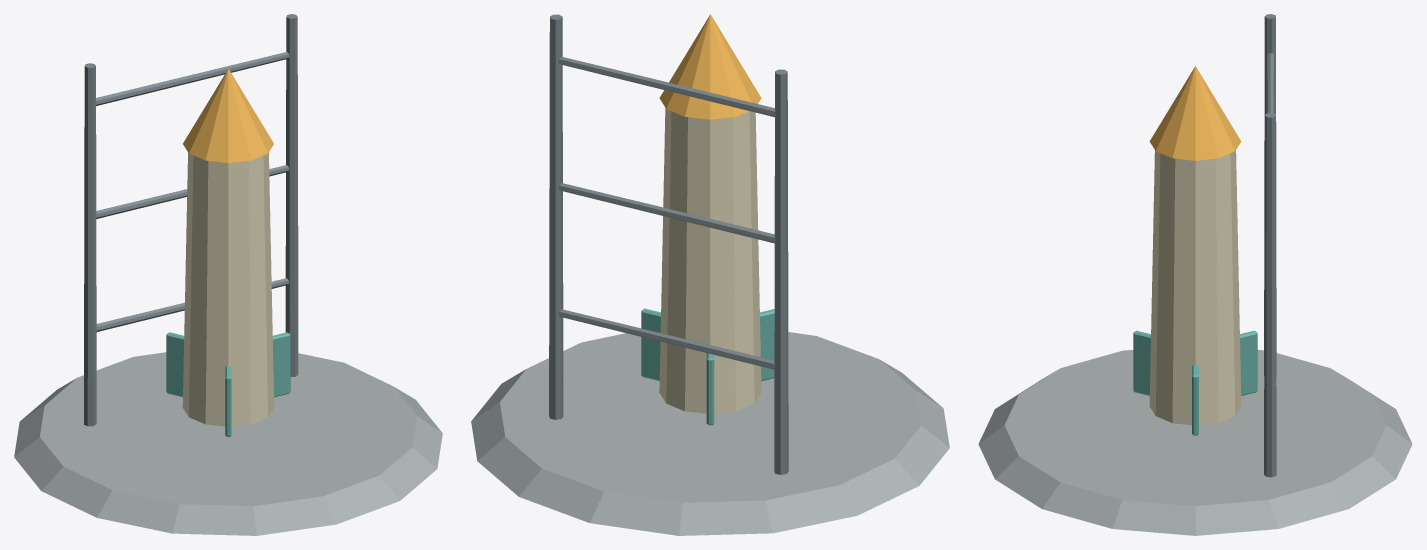
The model's file is CC_AirshipYard.fbx.
3 renders of one model, left to right at view 1: azimuth 30°, elevation 25°; view 2: azimuth 150°, elevation 25°; view 3: azimuth 270°, elevation 25°, orthographic. The views are drawn at different scales.
Visible parts, largest first — view 1: Launch pad, Rocket hull, Rocket nose, Gantry post, Gantry post.001, Gantry beam.002, Fin, Fin.001, Gantry beam.001, Gantry beam; view 2: Launch pad, Rocket hull, Gantry post, Gantry post.001, Rocket nose, Gantry beam.002, Gantry beam.001, Gantry beam, Fin, Fin.002, Fin.001; view 3: Launch pad, Rocket hull, Rocket nose, Gantry post.001, Gantry post, Fin.001, Fin.002, Gantry beam.002.
Boxes of the visible parts, left/top/right/bottom form: Launch pad: left=14, top=352, right=442, bottom=535; Rocket hull: left=182, top=152, right=274, bottom=426; Rocket nose: left=183, top=68, right=273, bottom=162; Gantry post: left=84, top=63, right=96, bottom=426; Gantry post.001: left=285, top=14, right=298, bottom=376; Gantry beam.002: left=95, top=52, right=289, bottom=105; Fin: left=272, top=332, right=290, bottom=397; Fin.001: left=166, top=332, right=184, bottom=397; Gantry beam.001: left=96, top=165, right=289, bottom=218; Gantry beam: left=96, top=278, right=289, bottom=331; Launch pad: left=471, top=332, right=949, bottom=535; Rocket hull: left=659, top=108, right=761, bottom=413; Gantry post: left=774, top=69, right=788, bottom=474; Gantry post.001: left=549, top=14, right=563, bottom=419; Rocket nose: left=659, top=14, right=761, bottom=119; Gantry beam.002: left=558, top=56, right=775, bottom=117; Gantry beam.001: left=558, top=183, right=775, bottom=243; Gantry beam: left=558, top=309, right=774, bottom=369; Fin: left=641, top=308, right=660, bottom=380; Fin.002: left=760, top=309, right=774, bottom=380; Fin.001: left=706, top=353, right=714, bottom=425; Launch pad: left=978, top=350, right=1412, bottom=535; Rocket hull: left=1149, top=150, right=1241, bottom=425; Rocket nose: left=1149, top=66, right=1241, bottom=160; Gantry post.001: left=1264, top=113, right=1276, bottom=477; Gantry post: left=1264, top=14, right=1276, bottom=376; Fin.001: left=1240, top=330, right=1257, bottom=395; Fin.002: left=1133, top=330, right=1150, bottom=395; Gantry beam.002: left=1266, top=53, right=1274, bottom=113.
Size of the model in its own units: 5.2 by 5 by 5.2.
